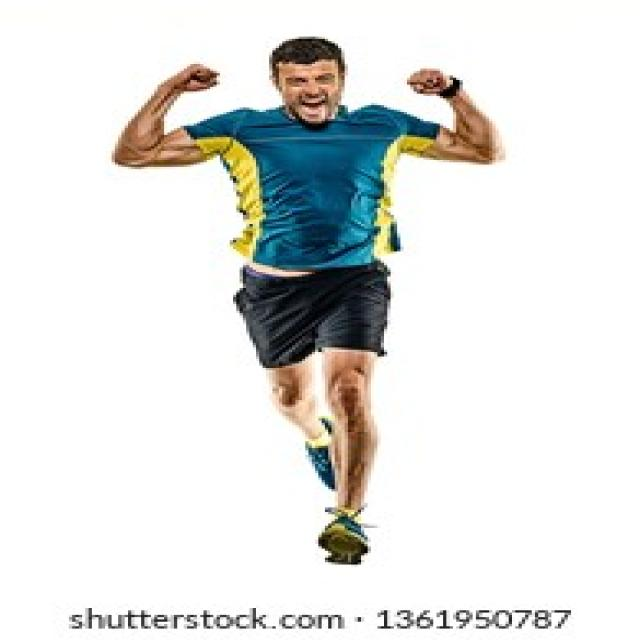running: (105, 35, 514, 565)
